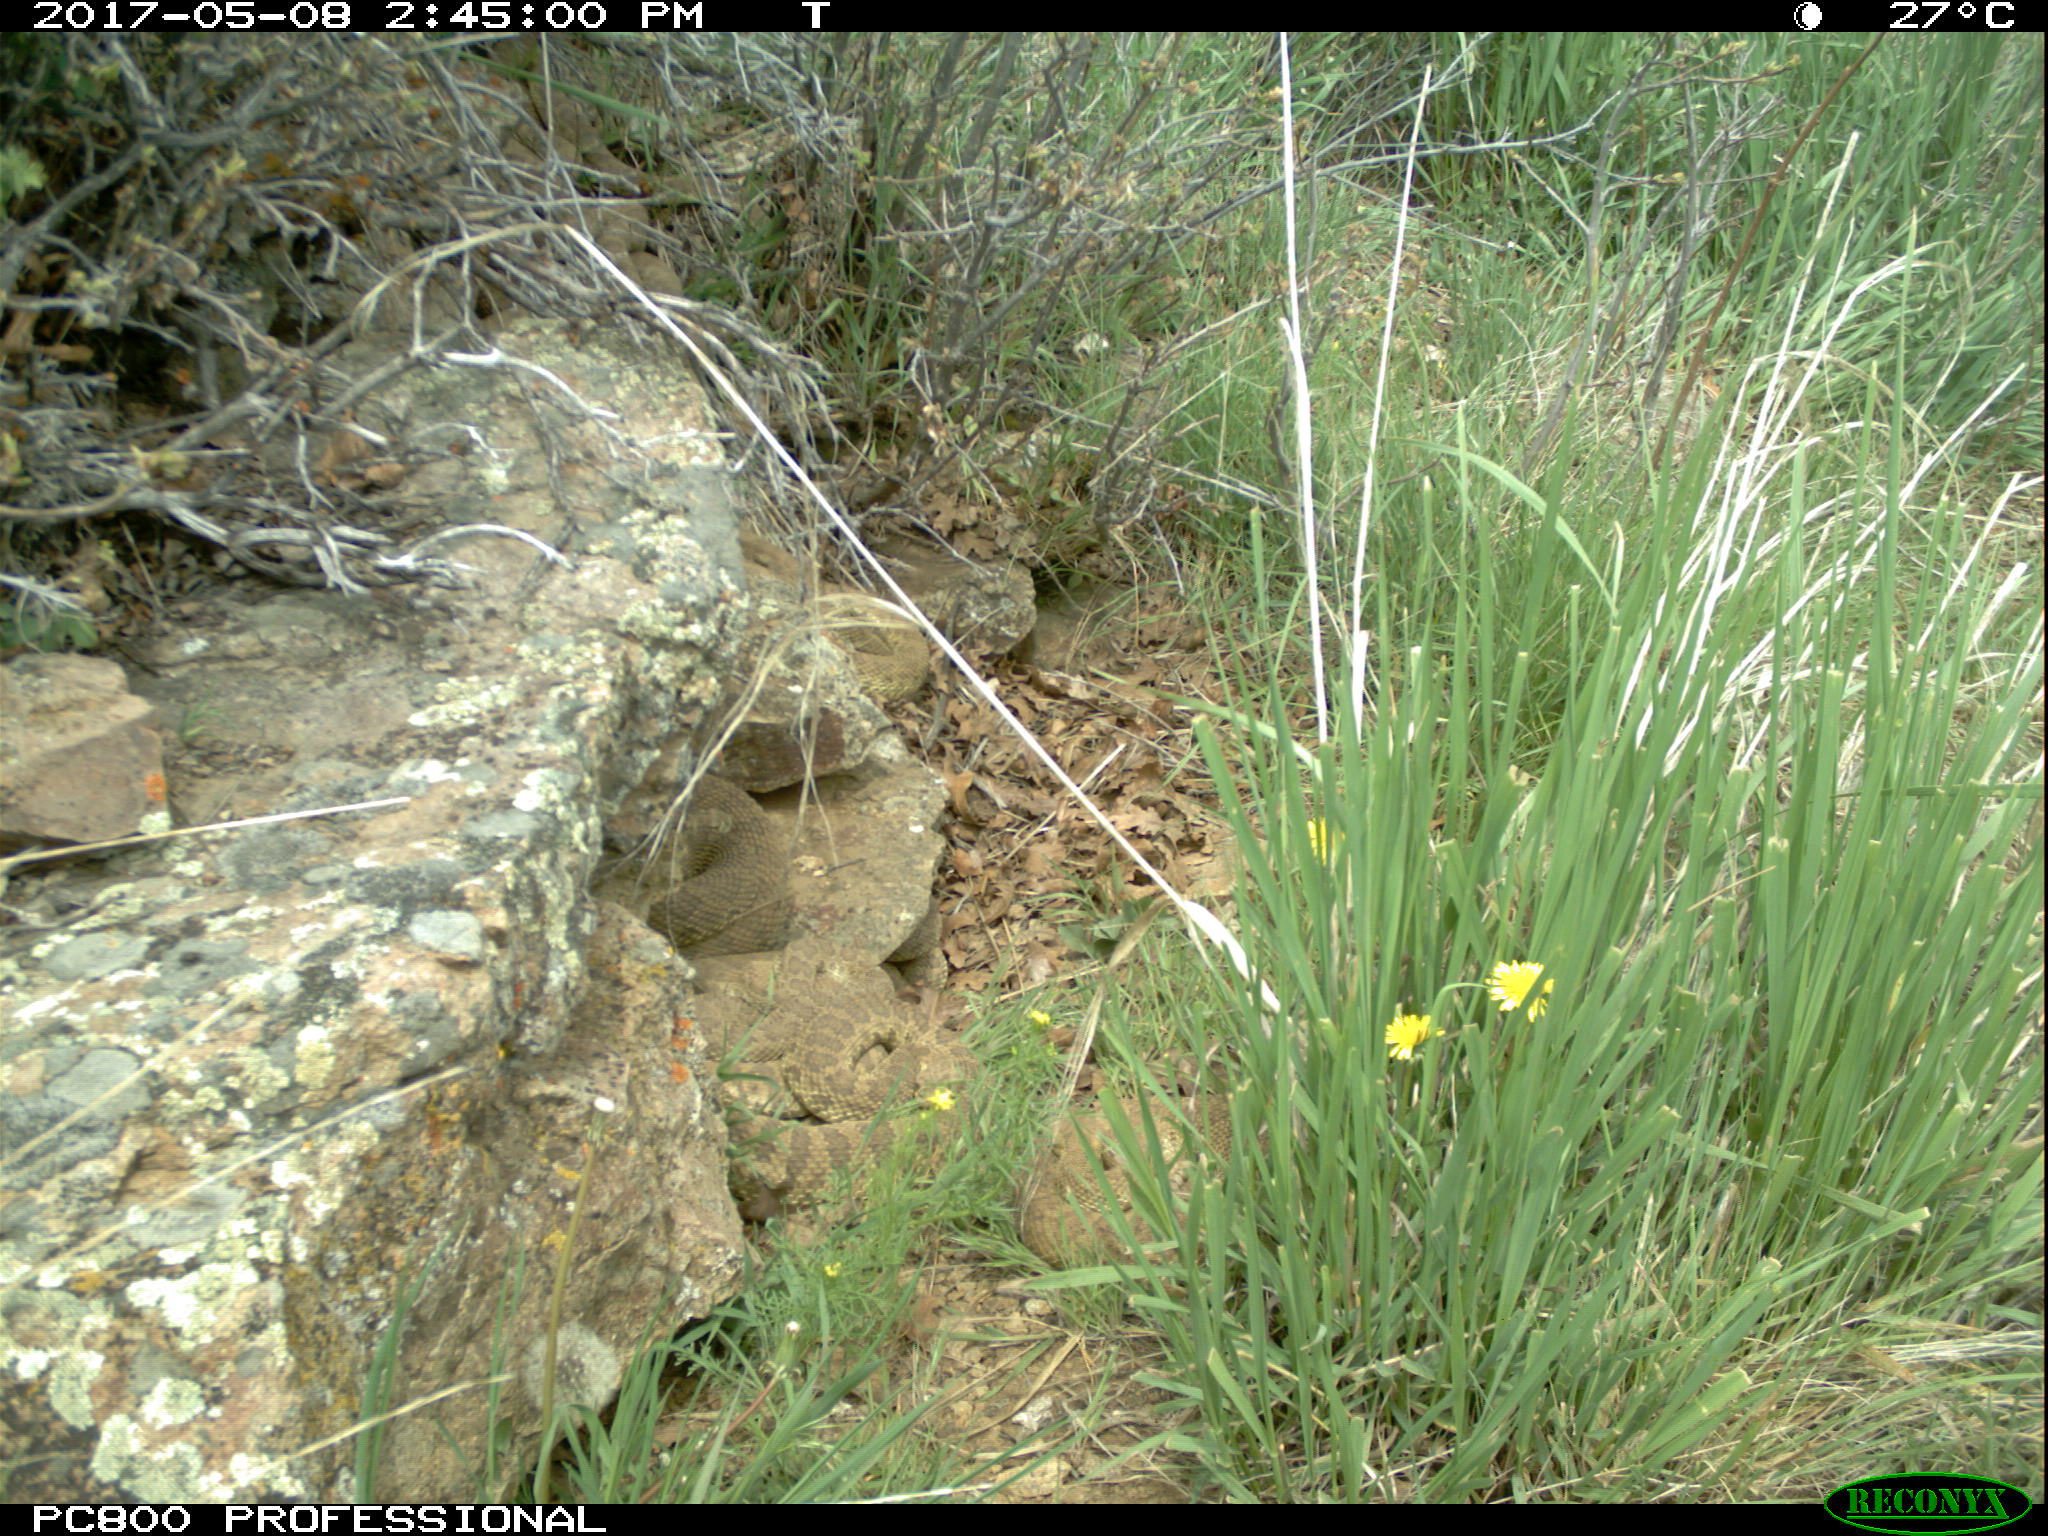snake: (735, 992, 980, 1212), (1035, 1089, 1264, 1275), (647, 774, 797, 949), (818, 578, 934, 703)
